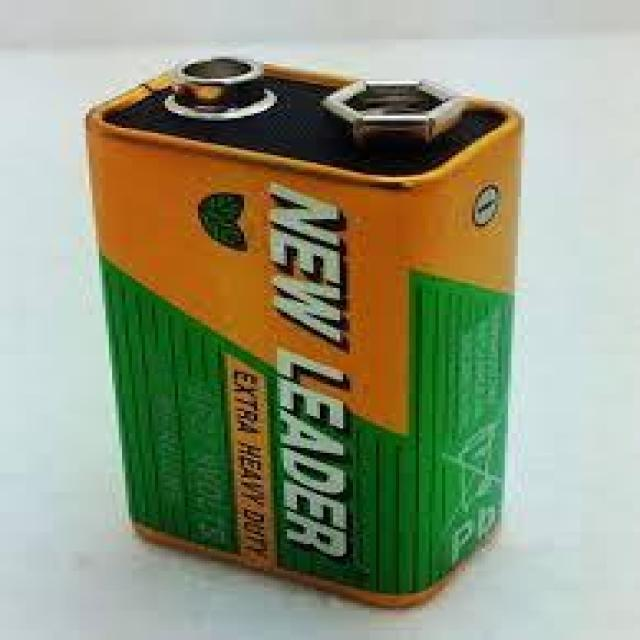9V: (66, 34, 534, 616)
